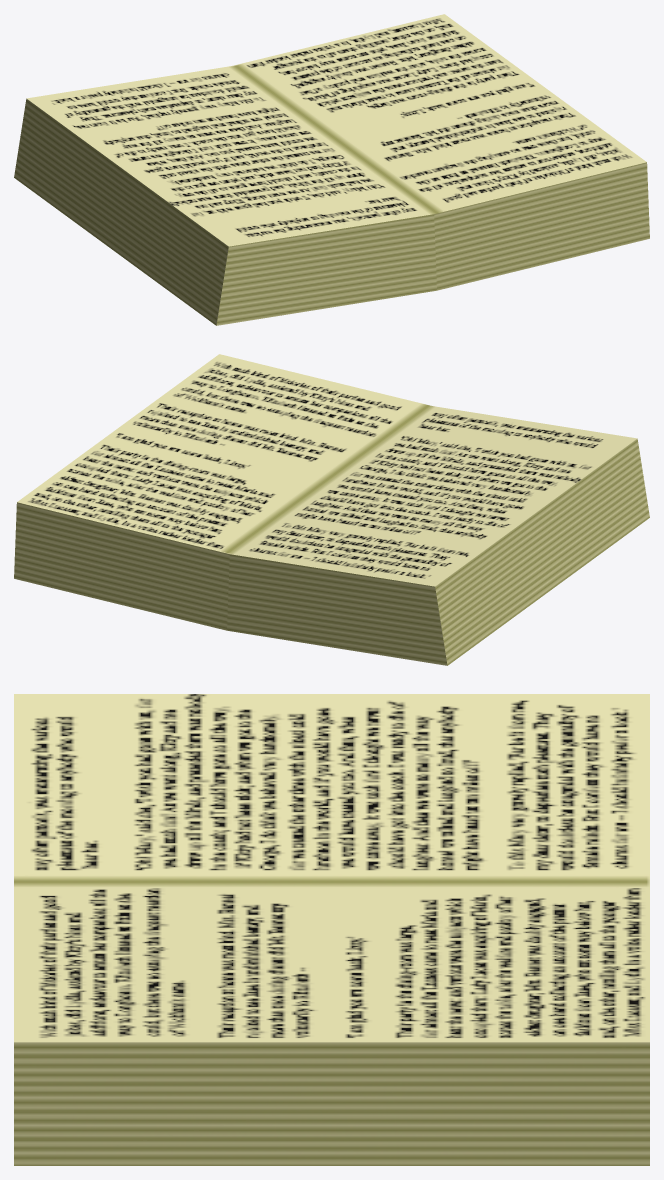
The model's file is HeldBook.fbx.
3 views of the same model, one above another, from view 1: azimuth 30°, elevation 25°; view 2: azimuth 150°, elevation 25°; view 3: azimuth 270°, elevation 25° (orthographic). The views are drawn at different scales.
Parts seen in each view (by area): view 1: Cube; view 2: Cube; view 3: Cube.
Boxes of the visible parts, x1,y1,x2,y2 form: Cube: (14, 14, 649, 325); Cube: (14, 354, 649, 665); Cube: (14, 694, 649, 1165).
Bounding box in the file's own units: 26.11 × 5.46 × 21.12.
Materials: 1 (1 with a texture image).
